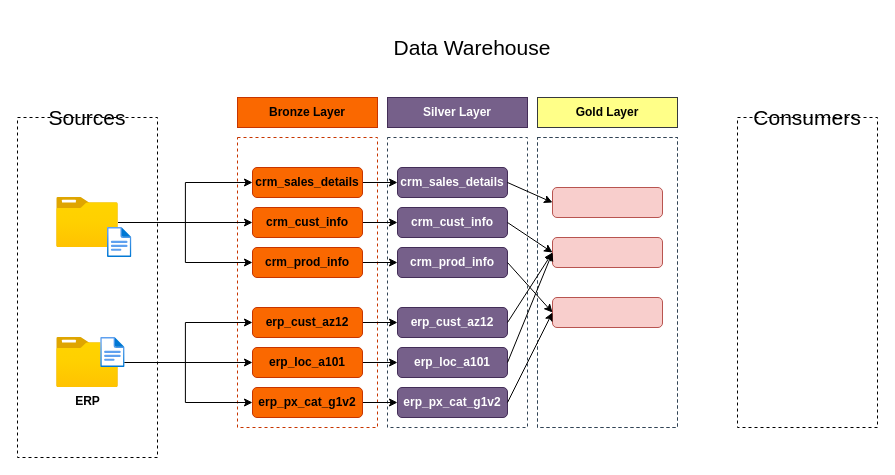
Image size: 895x475. Some labels were removed from this diagram. Each missing label, with the centre of its shape:
"CRM" goes at point 87,222.
"dim_customers" goes at point 607,252.
"dim_products" goes at point 607,312.
"fact_sales" goes at point 607,202.
